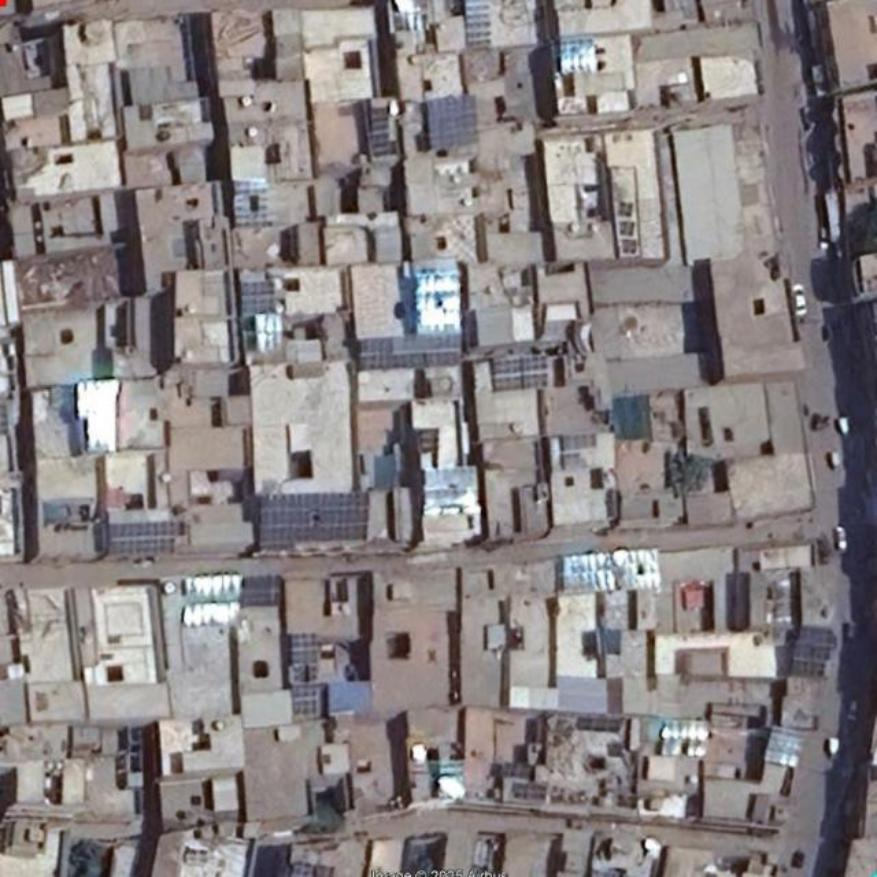Solarpanel: (256, 494, 369, 551), (359, 334, 462, 372), (425, 92, 477, 148), (788, 625, 834, 677), (490, 355, 546, 392), (233, 178, 268, 226), (111, 521, 184, 540), (104, 536, 178, 554), (242, 574, 281, 608), (467, 0, 492, 49), (558, 38, 594, 72), (244, 280, 274, 320), (292, 632, 319, 668), (372, 107, 389, 156), (292, 686, 319, 714)
